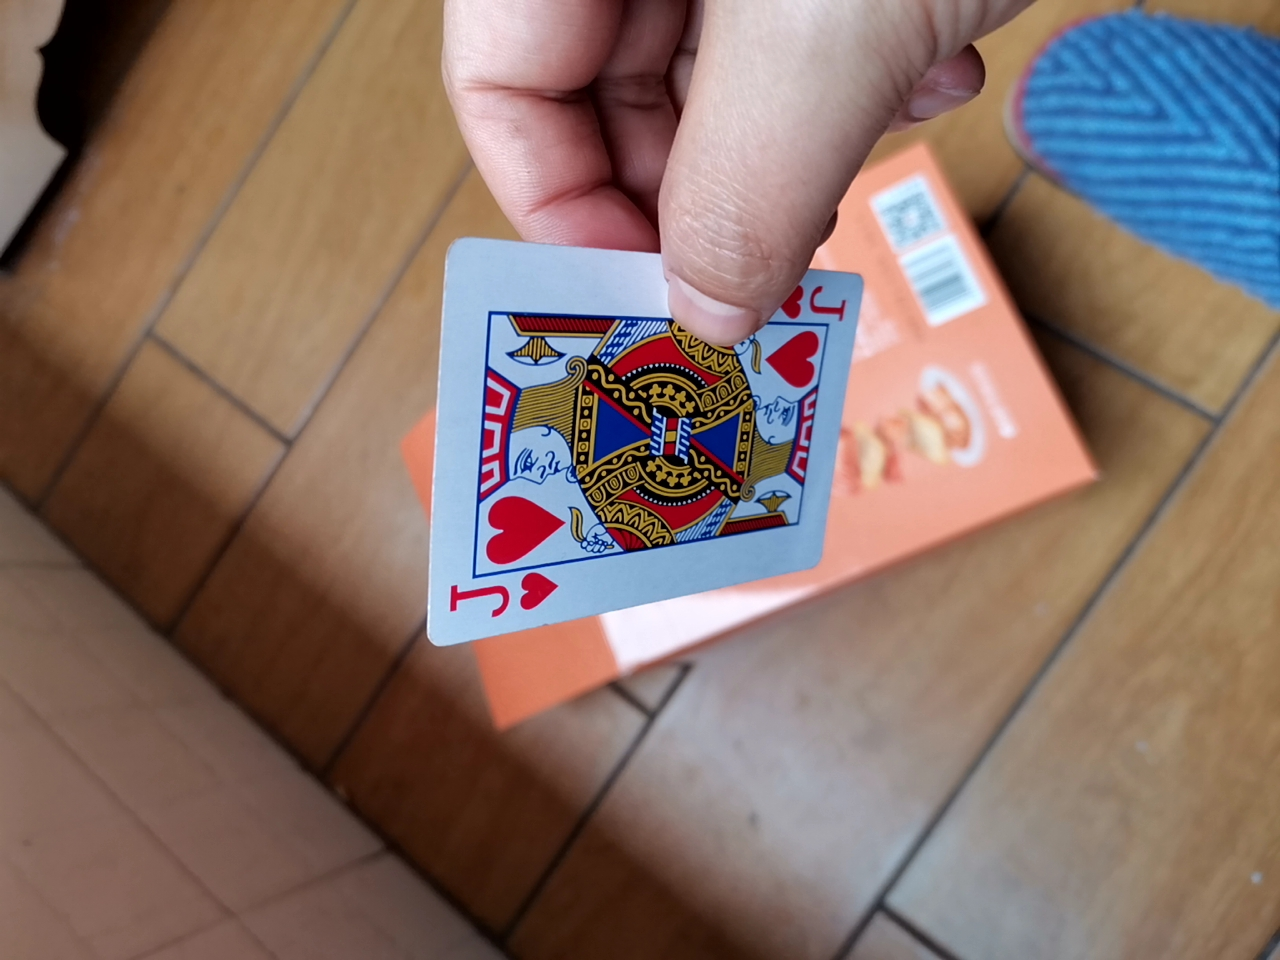hx j: (420, 203, 902, 686)
